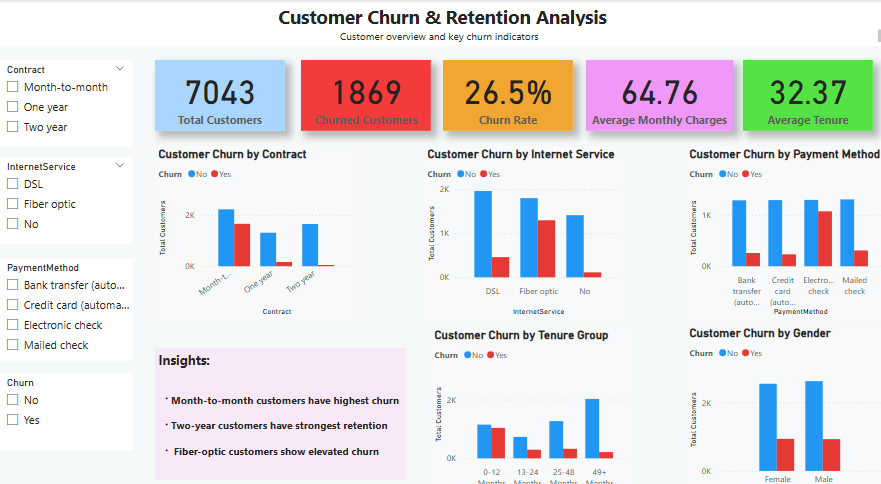

This screenshot's page, from the dashboard's own definition file:
{"tool":"powerbi","page":{"name":"Customer Overview","canvas":[1280,720],"ordinal":0},"visuals":[{"type":"card","fields":{"Values":["WA_Fn-UseC_-Telco-Customer-Churn.Churned Customers"]},"box":[436.3,86.4,187.2,102.2],"z":0},{"type":"card","fields":{"Values":["WA_Fn-UseC_-Telco-Customer-Churn.Churn Rate"]},"box":[640.8,86.4,187.2,102.2],"z":1000},{"type":"card","fields":{"Values":["WA_Fn-UseC_-Telco-Customer-Churn.Average Monthly Charges"]},"box":[846.7,86.4,211.7,102.2],"z":2000},{"type":"card","fields":{"Values":["WA_Fn-UseC_-Telco-Customer-Churn.Total Customers"]},"box":[226.1,86.4,187.2,102.2],"z":3000},{"type":"card","fields":{"Values":["WA_Fn-UseC_-Telco-Customer-Churn.Average Tenure"]},"box":[1072.8,86.4,187.2,102.2],"z":4000},{"type":"clusteredColumnChart","title":"Customer Churn by Contract","fields":{"Category":["WA_Fn-UseC_-Telco-Customer-Churn.Contract"],"Y":["WA_Fn-UseC_-Telco-Customer-Churn.Total Customers"],"Series":["WA_Fn-UseC_-Telco-Customer-Churn.Churn"]},"box":[226.1,211.7,289.4,247.7],"z":5000},{"type":"clusteredColumnChart","title":"Customer Churn by Internet Service","fields":{"Category":["WA_Fn-UseC_-Telco-Customer-Churn.InternetService"],"Y":["WA_Fn-UseC_-Telco-Customer-Churn.Total Customers"],"Series":["WA_Fn-UseC_-Telco-Customer-Churn.Churn"]},"box":[613.4,211.7,289.4,247.7],"z":6000},{"type":"clusteredColumnChart","title":"Customer Churn by Payment Method","fields":{"Category":["WA_Fn-UseC_-Telco-Customer-Churn.PaymentMethod"],"Y":["WA_Fn-UseC_-Telco-Customer-Churn.Total Customers"],"Series":["WA_Fn-UseC_-Telco-Customer-Churn.Churn"]},"box":[990.7,211.7,289.4,247.7],"z":7000},{"type":"clusteredColumnChart","title":"Customer Churn by Tenure Group","fields":{"Category":["WA_Fn-UseC_-Telco-Customer-Churn.Tenure Group"],"Y":["WA_Fn-UseC_-Telco-Customer-Churn.Total Customers"],"Series":["WA_Fn-UseC_-Telco-Customer-Churn.Churn"]},"box":[623.5,472.3,289.4,247.7],"z":8000},{"type":"clusteredColumnChart","title":"Customer Churn by Gender","fields":{"Category":["WA_Fn-UseC_-Telco-Customer-Churn.gender"],"Y":["WA_Fn-UseC_-Telco-Customer-Churn.Total Customers"],"Series":["WA_Fn-UseC_-Telco-Customer-Churn.Churn"]},"box":[990.7,469.4,289.4,247.7],"z":9000},{"type":"slicer","fields":{"Values":["WA_Fn-UseC_-Telco-Customer-Churn.Contract"]},"box":[0,86.4,194.4,125.3],"z":10000},{"type":"slicer","fields":{"Values":["WA_Fn-UseC_-Telco-Customer-Churn.InternetService"]},"box":[0,226.1,194.4,125.3],"z":11000},{"type":"slicer","fields":{"Values":["WA_Fn-UseC_-Telco-Customer-Churn.PaymentMethod"]},"box":[0,371.5,194.4,148.3],"z":12000},{"type":"slicer","fields":{"Values":["WA_Fn-UseC_-Telco-Customer-Churn.Churn"]},"box":[0,537.1,194.4,110.9],"z":13000},{"type":"textbox","box":[0,0,1280.2,47.5],"z":14000},{"type":"textbox","box":[0,37.4,1280.2,28.8],"z":14001},{"type":"textbox","box":[226.1,501.1,361.4,190.1],"z":14002}]}

Visuals, with their boxes in screenshot pixels (x1, y1, x2, y2), scaled from the page's 1280x720 canvas onto the 881x484 screenshot:
card - WA_Fn-UseC_-Telco-Customer-Churn.Churned Customers: left=300, top=58, right=429, bottom=127
card - WA_Fn-UseC_-Telco-Customer-Churn.Churn Rate: left=441, top=58, right=570, bottom=127
card - WA_Fn-UseC_-Telco-Customer-Churn.Average Monthly Charges: left=583, top=58, right=728, bottom=127
card - WA_Fn-UseC_-Telco-Customer-Churn.Total Customers: left=156, top=58, right=284, bottom=127
card - WA_Fn-UseC_-Telco-Customer-Churn.Average Tenure: left=738, top=58, right=867, bottom=127
"Customer Churn by Contract" clusteredColumnChart: left=156, top=142, right=355, bottom=309
"Customer Churn by Internet Service" clusteredColumnChart: left=422, top=142, right=621, bottom=309
"Customer Churn by Payment Method" clusteredColumnChart: left=682, top=142, right=880, bottom=309
"Customer Churn by Tenure Group" clusteredColumnChart: left=429, top=317, right=628, bottom=483
"Customer Churn by Gender" clusteredColumnChart: left=682, top=316, right=880, bottom=482
slicer - WA_Fn-UseC_-Telco-Customer-Churn.Contract: left=0, top=58, right=134, bottom=142
slicer - WA_Fn-UseC_-Telco-Customer-Churn.InternetService: left=0, top=152, right=134, bottom=236
slicer - WA_Fn-UseC_-Telco-Customer-Churn.PaymentMethod: left=0, top=250, right=134, bottom=349
slicer - WA_Fn-UseC_-Telco-Customer-Churn.Churn: left=0, top=361, right=134, bottom=436
textbox: left=0, top=0, right=880, bottom=32
textbox: left=0, top=25, right=880, bottom=45
textbox: left=156, top=337, right=404, bottom=465
